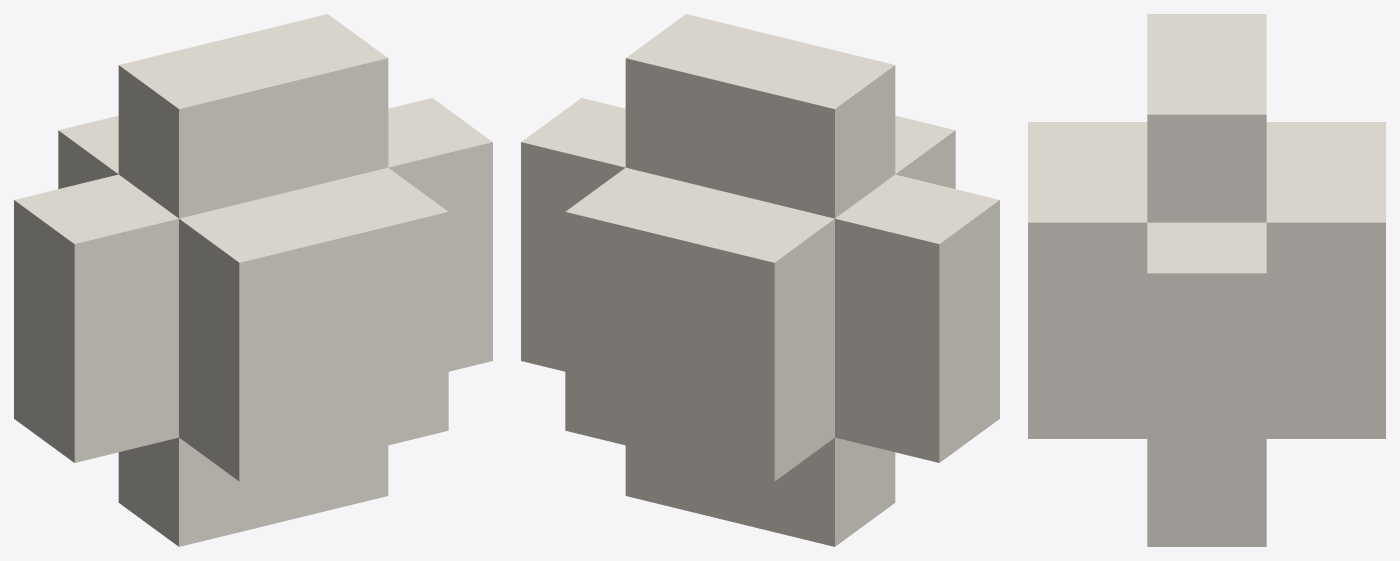
The model's file is rabbit__tail.glb.
3 renders of one model, left to right at view 1: azimuth 30°, elevation 25°; view 2: azimuth 150°, elevation 25°; view 3: azimuth 270°, elevation 25°, orthographic.
Parts seen in each view (by area): view 1: rabbit__tail; view 2: rabbit__tail; view 3: rabbit__tail.
Part boxes in pixels (x1,y1,x2,y2): rabbit__tail: (14,14,492,546); rabbit__tail: (521,14,999,546); rabbit__tail: (1028,14,1385,546).
Bounding box in the file's own units: 0.4 × 0.4 × 0.3.
1 material, 1 textured.
